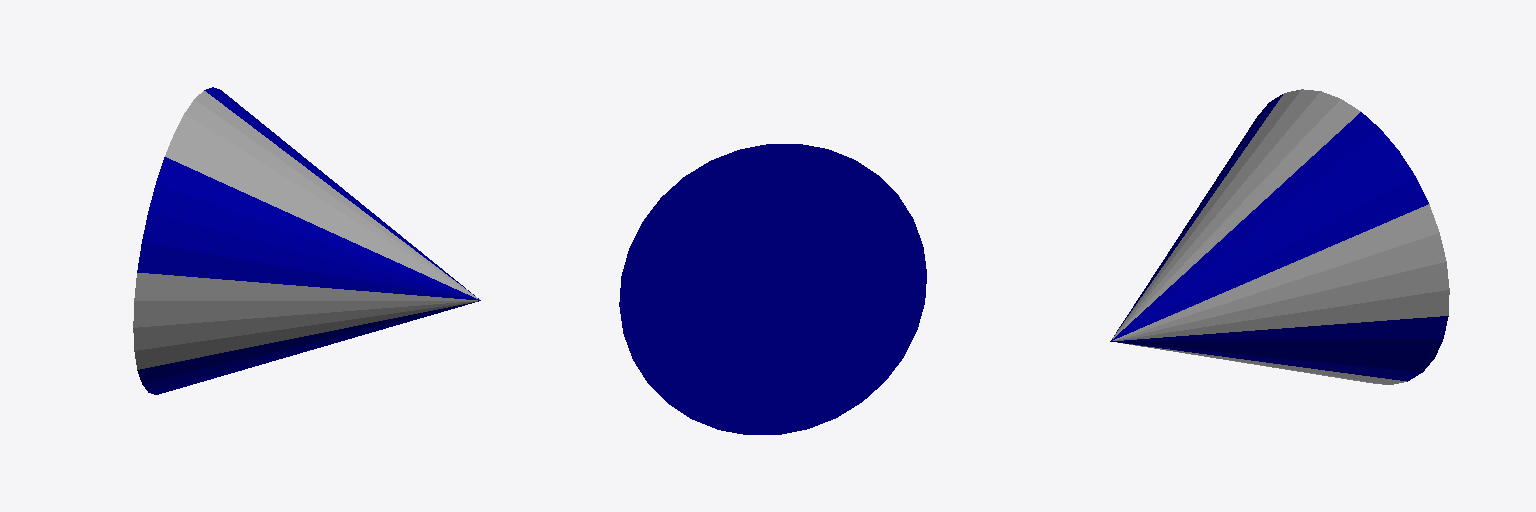
File: shooter.obj
3 renders of one model, left to right at view 1: azimuth 30°, elevation 25°; view 2: azimuth 150°, elevation 25°; view 3: azimuth 270°, elevation 25°, orthographic.
Visible parts, largest first — view 1: Cone; view 2: Cone; view 3: Cone.
Boxes of the visible parts, box(x1,y1,x2,y2) form: Cone: box(133, 87, 480, 394); Cone: box(619, 144, 926, 434); Cone: box(1110, 89, 1449, 384).
Size of the model in its own units: 0.7766 by 0.7501 by 0.8122.